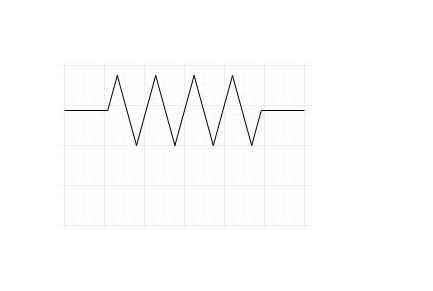resistor: (99, 68, 264, 149)
